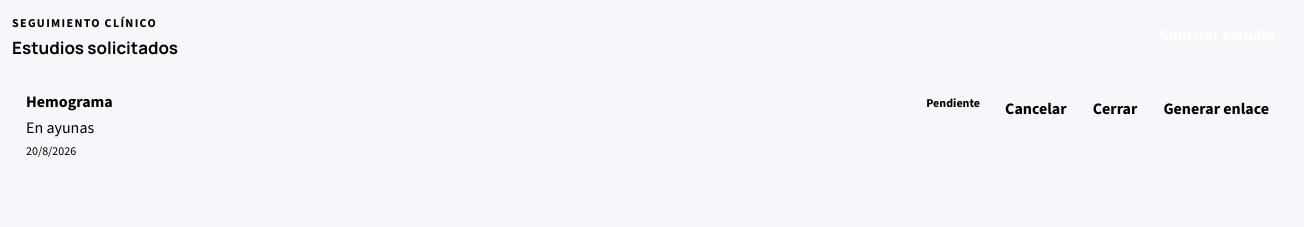
Test case: PatientStudyRequests › genera y copia el enlace de acceso
The image size is (1304, 227).
Expected: the text "Hemograma" is shown, [26,91,113,112]
Click the button "Generar enlace": click(1216, 108) [1154,91,1278,125]
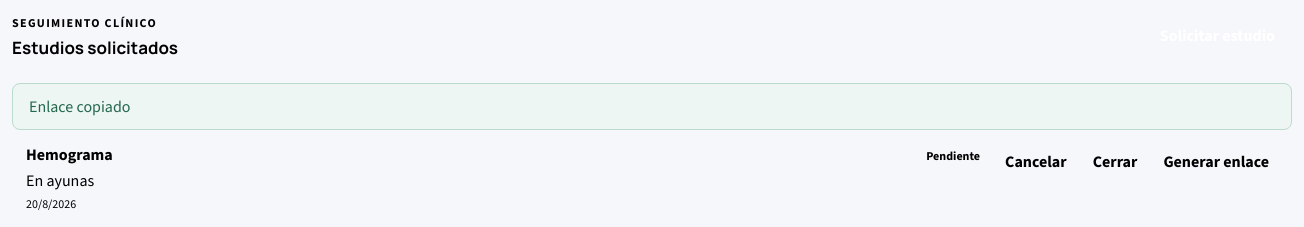
Expected: the message reads "Enlace copiado", [29,96,130,117]
